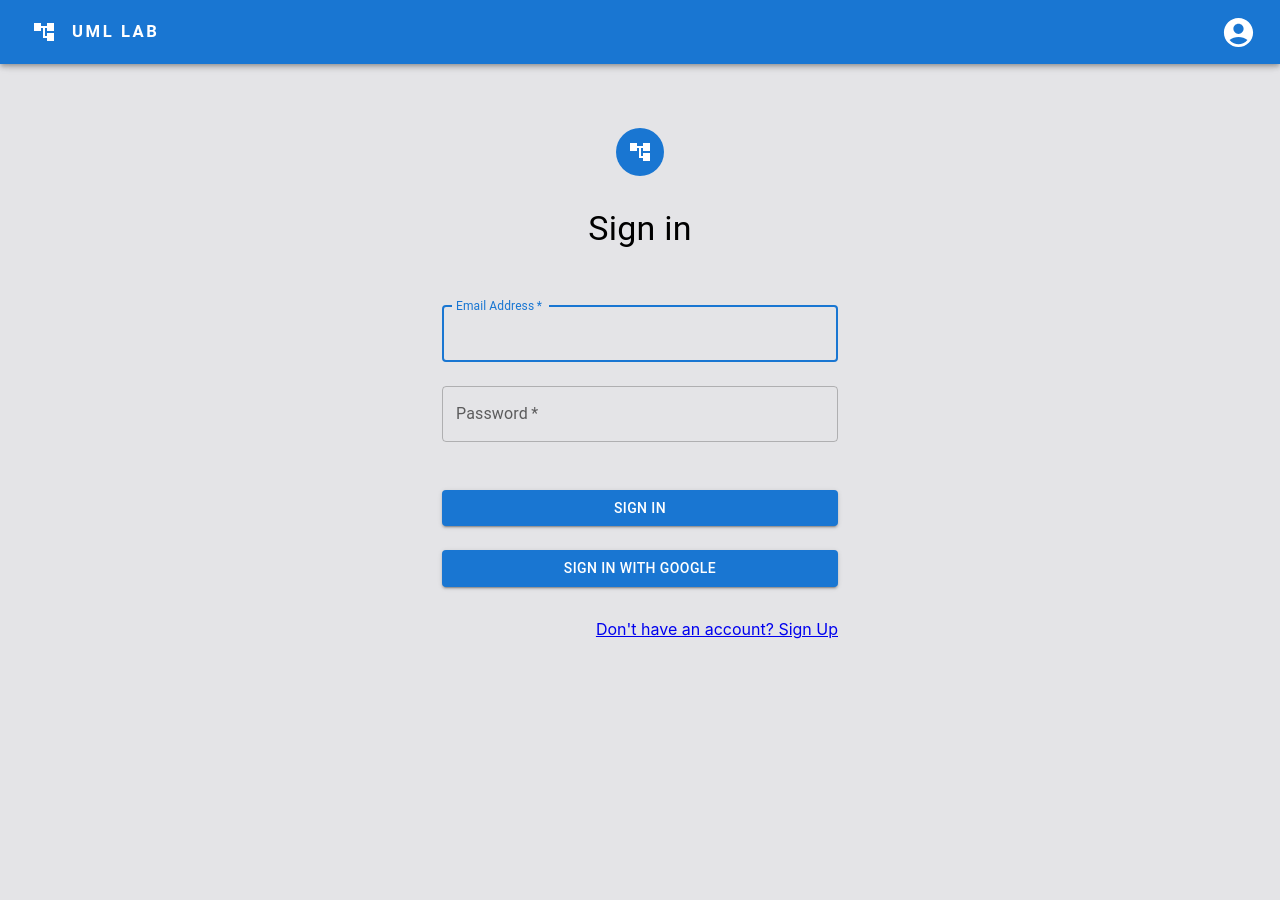
Test case: Login Testing › should tell user if google account is not already associated with webapp
Step 1. Click the button "Sign In with Google" → (640,569), box [442,550,838,587]
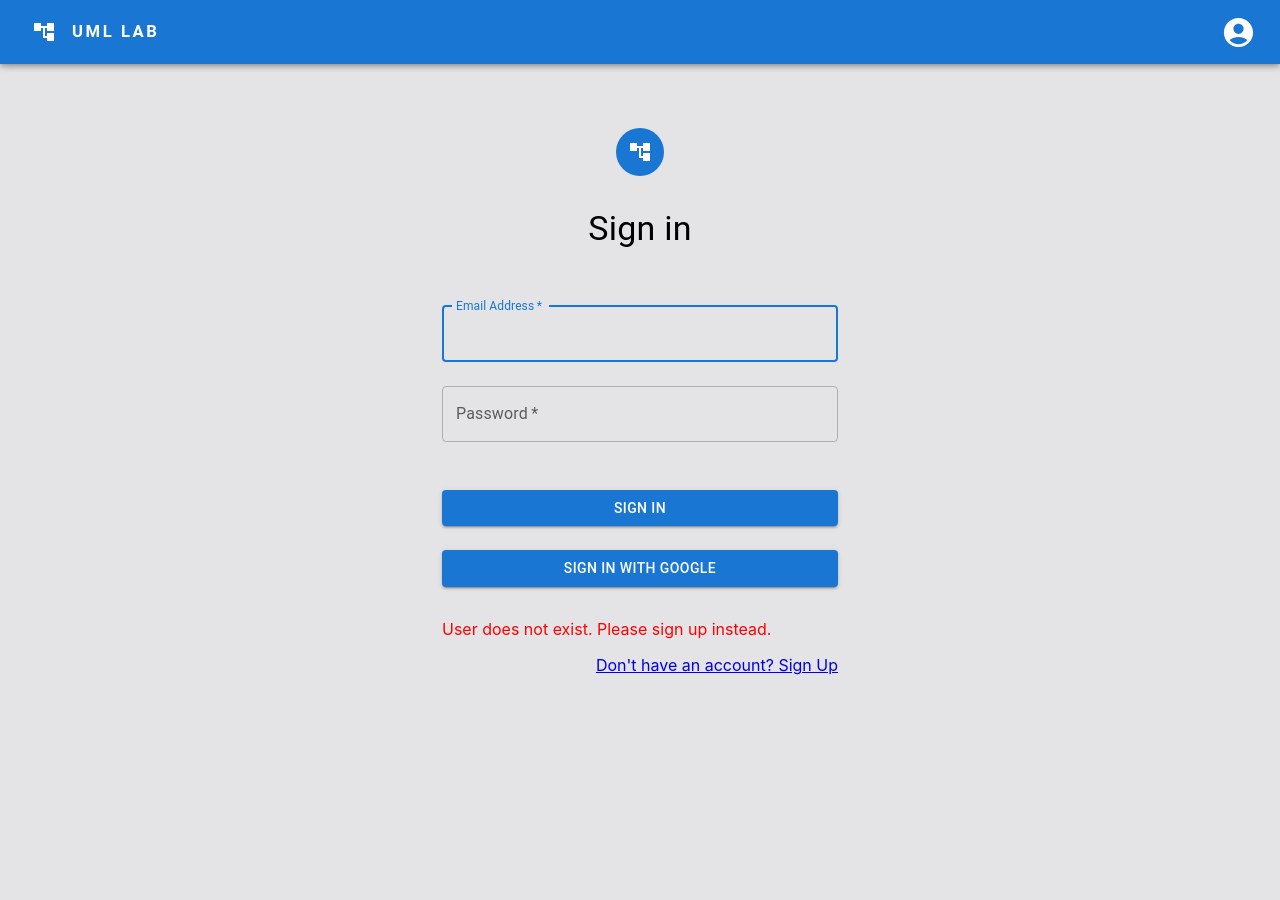
Expected: the text "User does not exist. Please sign up instead." is shown, [442,619,771,639]
